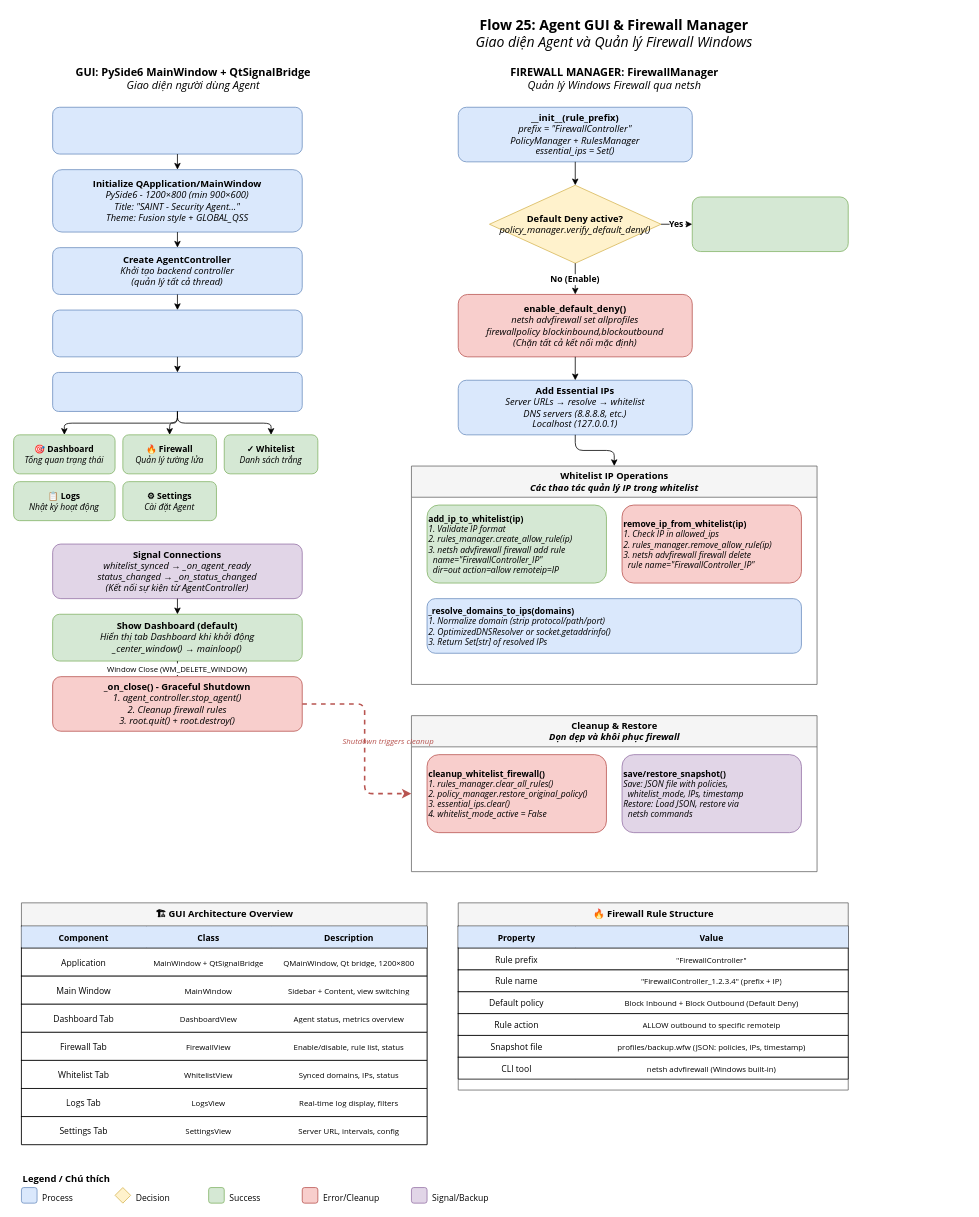
This 979x1217 diagram has some shape labels left out. The shapes that lost their labels are listed below. From the top down, each one's centre as x and y in pixels, then its label:
(177,130): Application Bootstrap gui_qt.app.run() tạo QApplication và MainWindow duy nhất
(769,224): Resume Whitelist Mode whitelist_mode_active = True Tiếp tục chế độ đã có
(177,333): Create MainWindow Sidebar + Content Area layout Grid: col0=sidebar, col1=content
(177,391): Create 5 Tab Views Tạo 5 tab chính của ứng dụng
